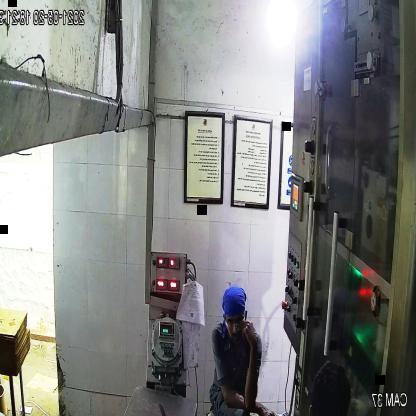goggles: (221, 310, 248, 332)
